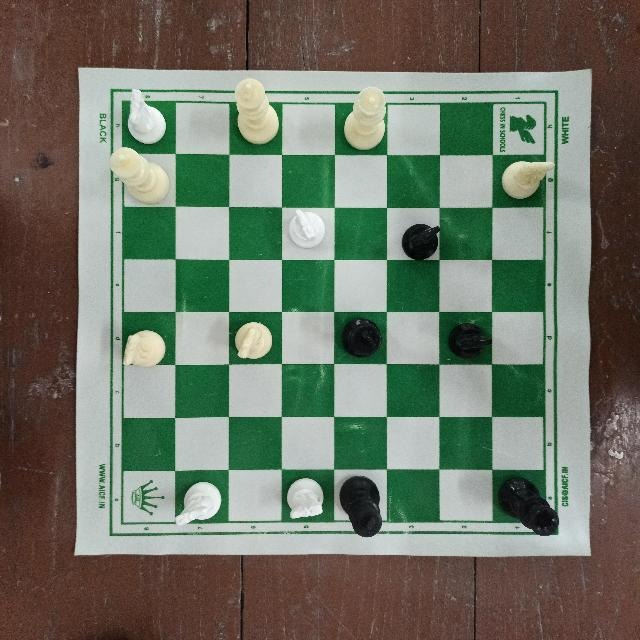black-king: (498, 479, 565, 542), (339, 474, 394, 540), (333, 312, 389, 358)
black-knight: (392, 215, 446, 266), (440, 319, 496, 366)
white-king: (102, 144, 174, 206), (230, 75, 279, 146)
white-knight: (113, 84, 177, 144), (173, 471, 229, 531), (494, 155, 560, 201), (115, 316, 169, 371), (282, 204, 339, 254), (231, 320, 287, 366), (282, 476, 327, 523)
white-queen: (344, 78, 389, 154)
